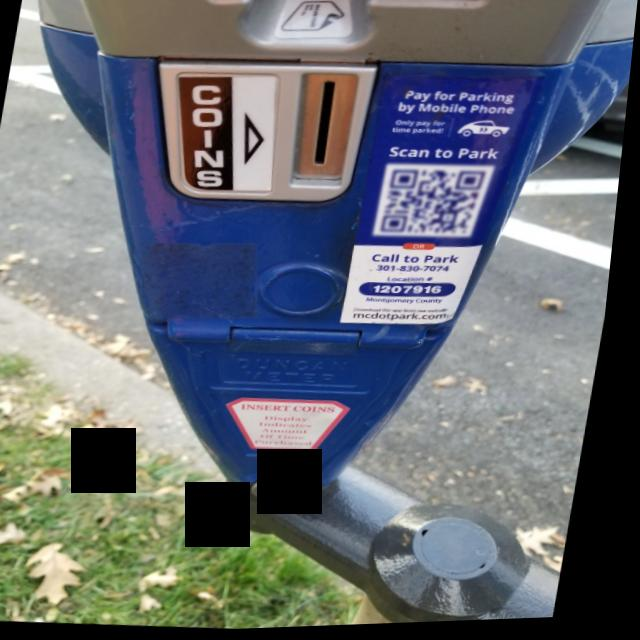QR_CODE: (374, 155, 504, 251)
